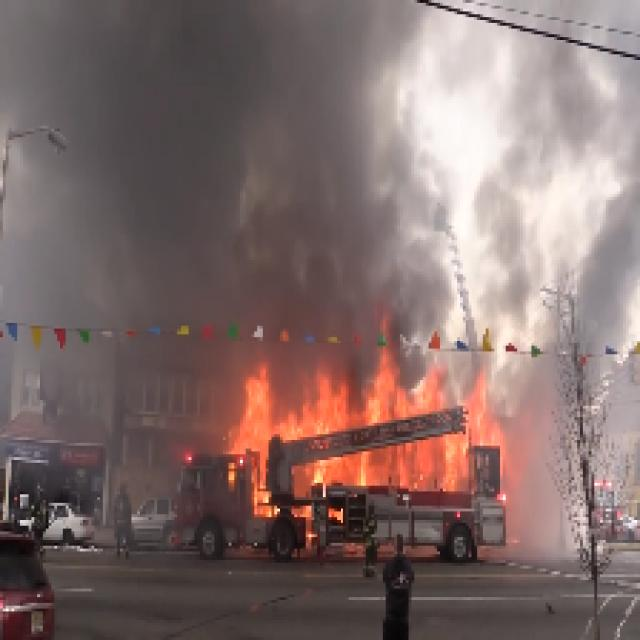fire: (242, 374, 467, 487)
